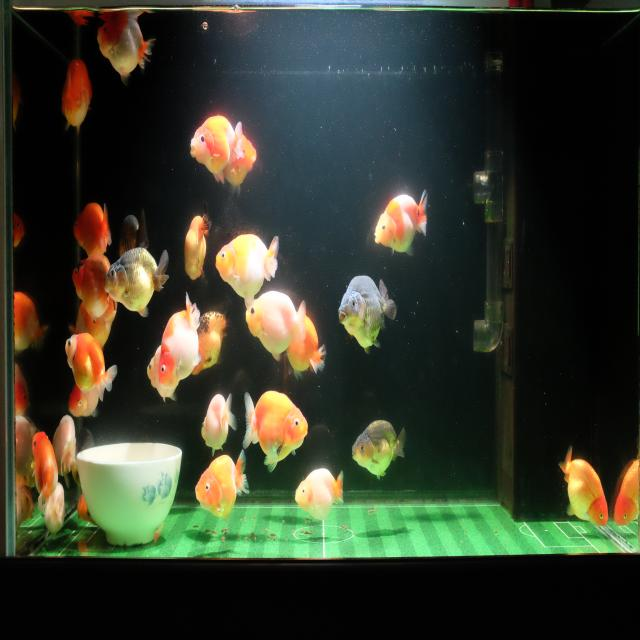Tilapia: (241, 387, 309, 476), (337, 272, 398, 360), (214, 231, 279, 313), (103, 248, 170, 320), (557, 444, 610, 533), (96, 11, 158, 87), (246, 288, 306, 365), (188, 108, 245, 188), (158, 290, 201, 394), (373, 184, 429, 259), (194, 449, 251, 522), (64, 331, 118, 406), (351, 417, 408, 480), (192, 304, 233, 377), (294, 465, 344, 524), (60, 54, 94, 139), (287, 310, 327, 382), (72, 198, 112, 266), (30, 426, 60, 513), (15, 286, 48, 365), (201, 392, 237, 458), (224, 131, 258, 196), (144, 343, 178, 406), (117, 203, 149, 266), (614, 457, 640, 528), (40, 482, 66, 546), (52, 414, 76, 482), (67, 382, 100, 420)
